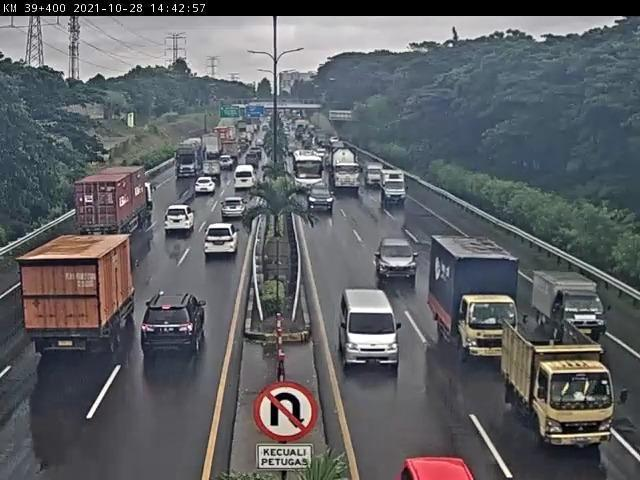bus: (294, 151, 329, 200)
car: (339, 290, 403, 377), (142, 291, 208, 361), (378, 237, 421, 285), (204, 223, 242, 261), (307, 186, 336, 217), (165, 204, 194, 234), (234, 166, 257, 193), (223, 198, 248, 221), (196, 175, 218, 196)
truck: (501, 318, 630, 452), (16, 232, 143, 359), (429, 237, 530, 366), (74, 167, 158, 252), (532, 270, 614, 342), (330, 147, 361, 192), (382, 170, 409, 206), (362, 161, 385, 194)
